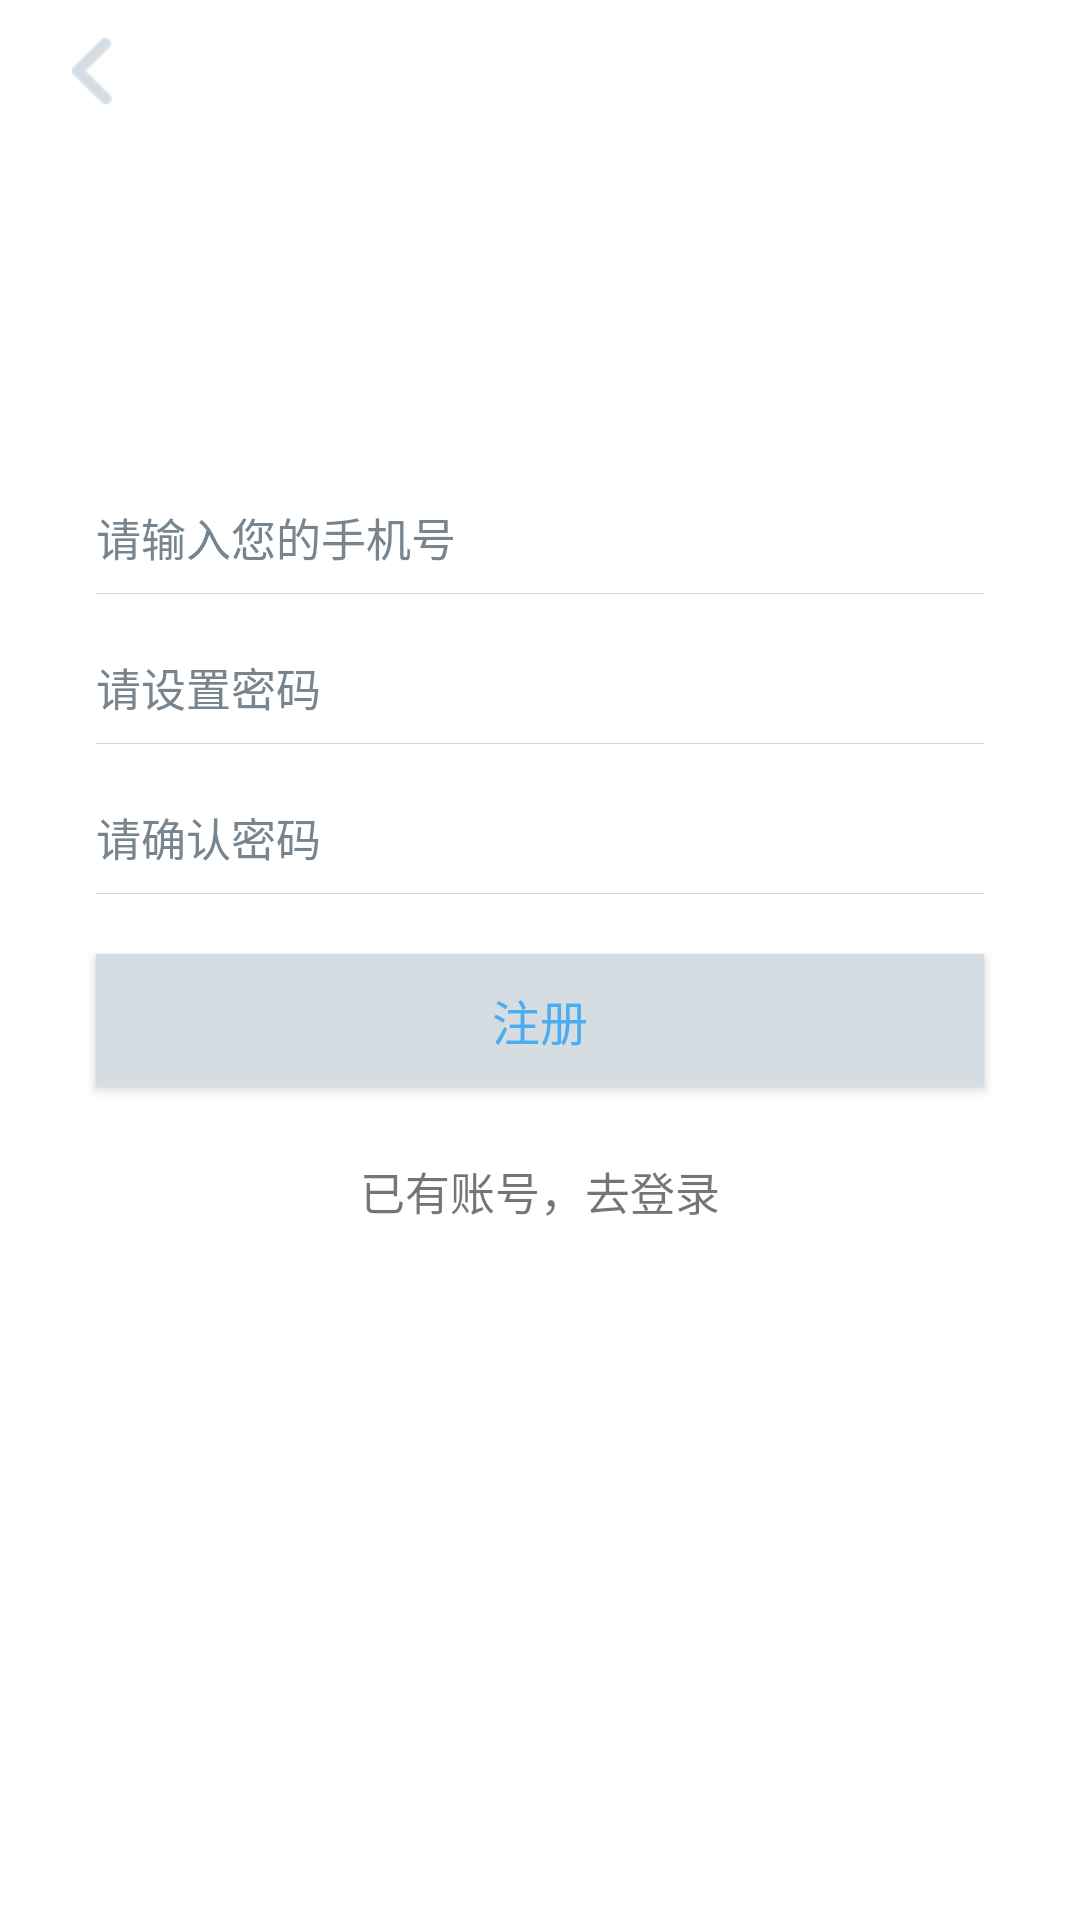

Named icons in this screenshot (1080x1920) and their centers, [x,y]:
back: [92,71]
